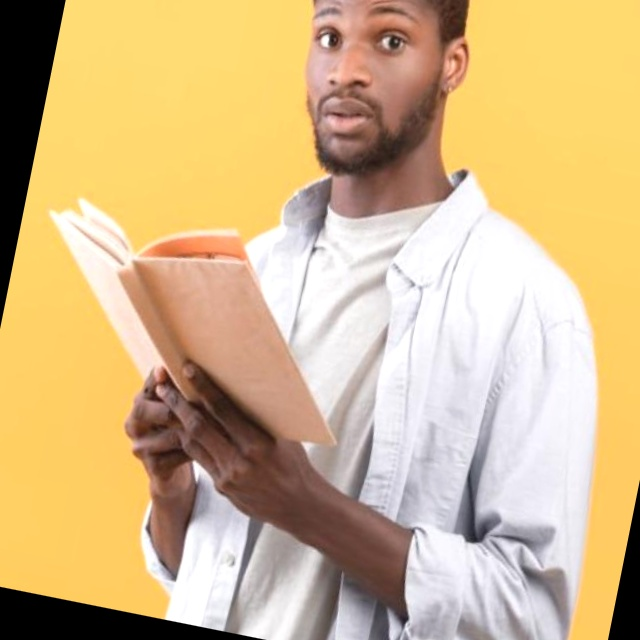Sin_Casco_Mascarrilla: (279, 0, 498, 190)
